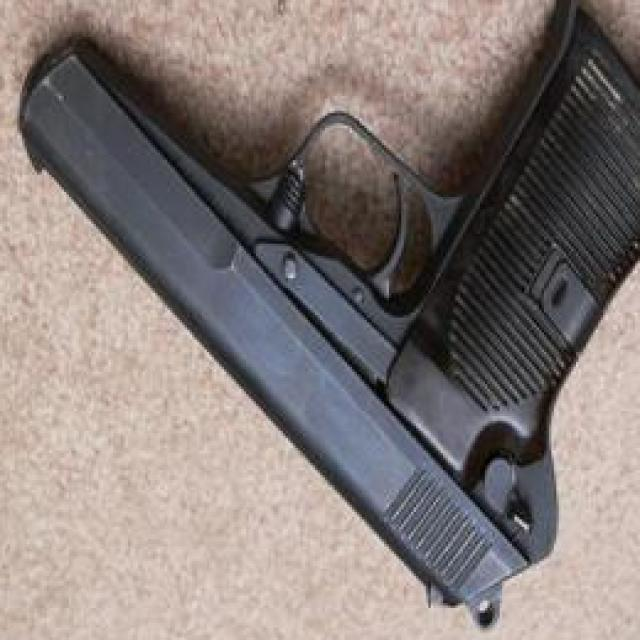pistol: (17, 30, 640, 625)
